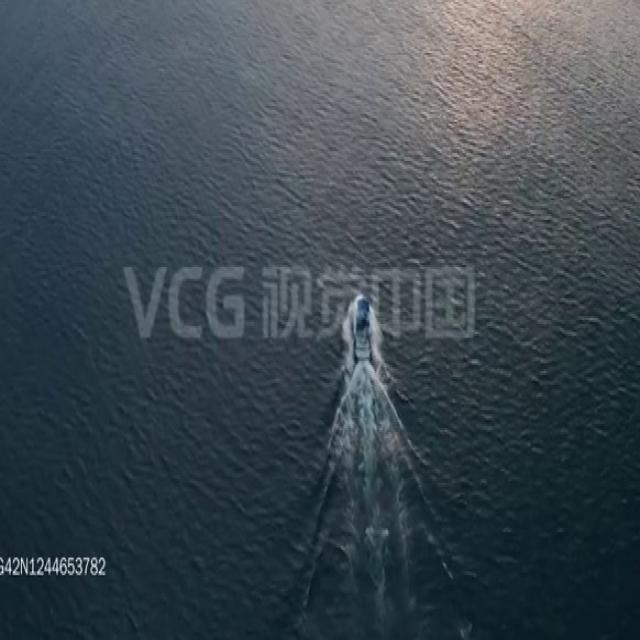houseboat: (353, 290, 376, 369)
